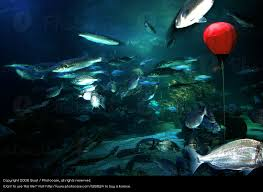buoy: (202, 23, 238, 57)
